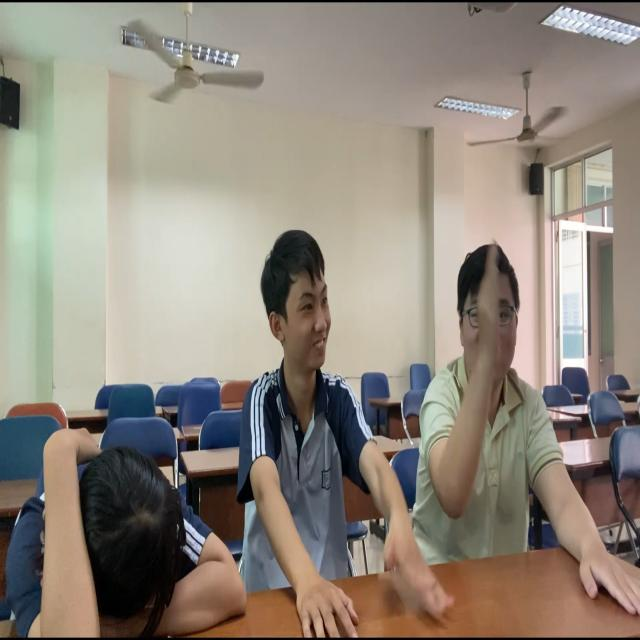raise_hand: (406, 210, 567, 525)
sleep: (1, 418, 250, 640)
